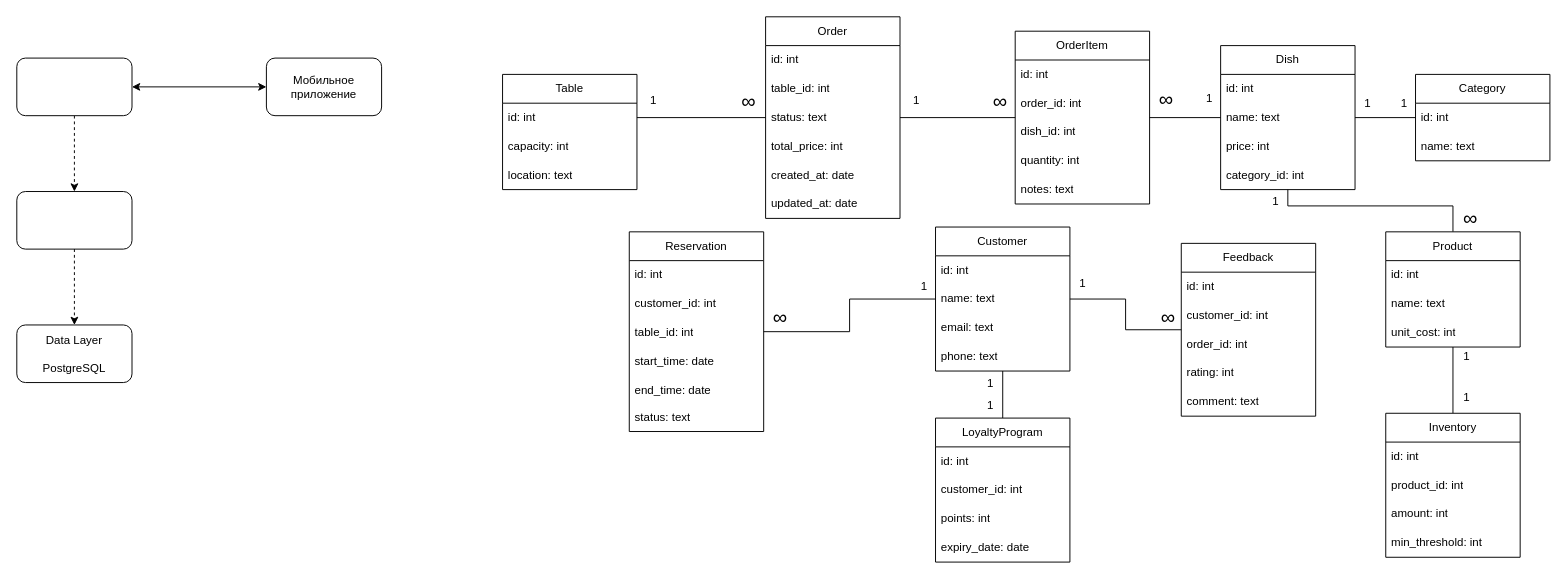
Some shapes in this 1567 by 579 pixel diagram are drawn without their labels. Each missing label, with the centre of its shape:
Backend Django: (74,220)
Веб интерфейс Frontend: (74,86)
